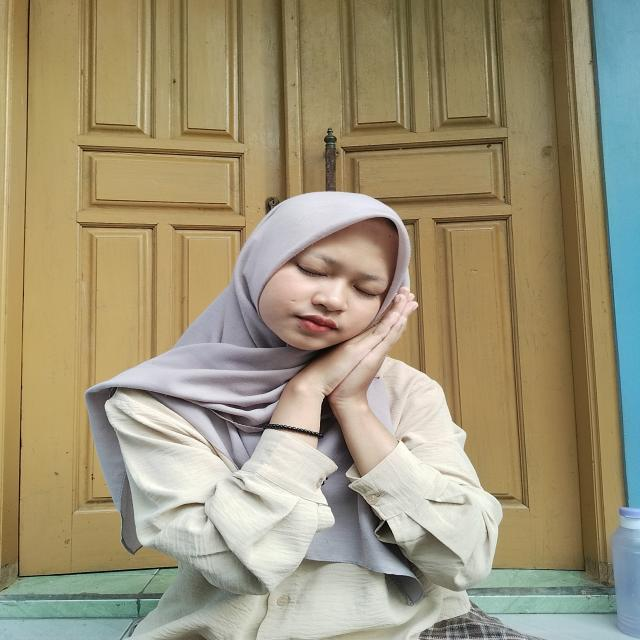tidur: (266, 282, 424, 450)
